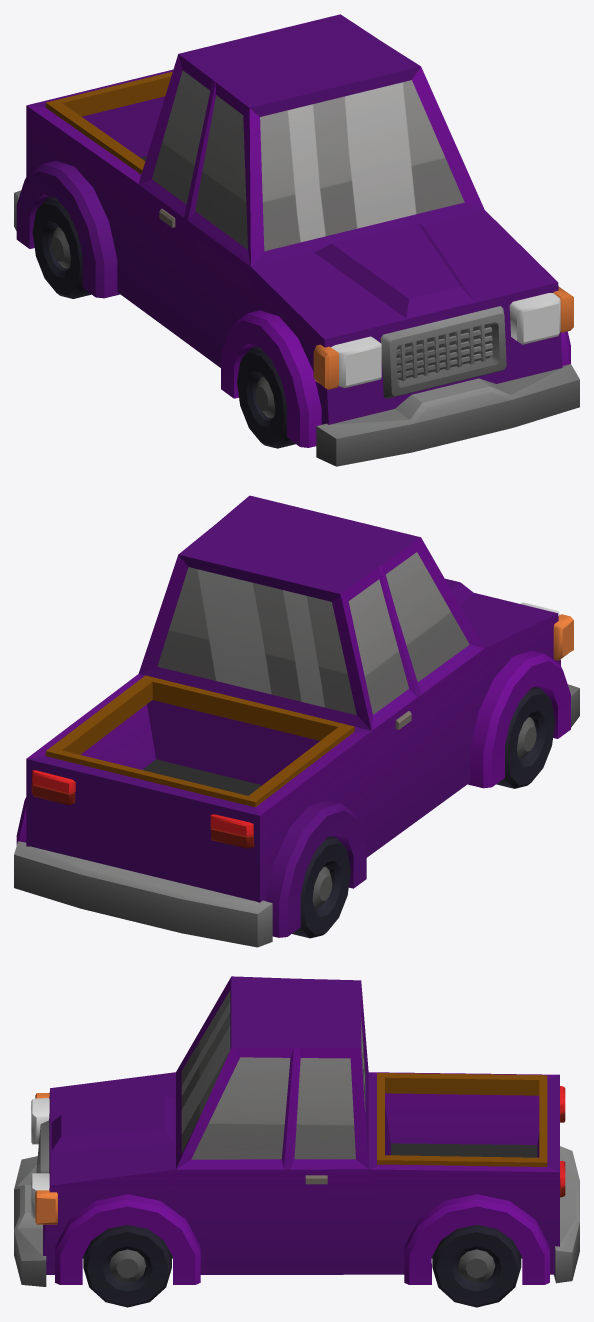
Rendered from PickUp_8.fbx.
The picture shows the model from 3 angles, top to bottom: view 1: azimuth 30°, elevation 25°; view 2: azimuth 150°, elevation 25°; view 3: azimuth 270°, elevation 25°; orthographic projection. The views are drawn at different scales.
Parts seen in each view (by area): view 1: PickUp_8, BWhel_BR, BWhel_FR; view 2: PickUp_8, BWhel_BR, BWhel_FR; view 3: PickUp_8, BWhel_BL, BWhel_FL.
Part boxes in pixels (bbox=[...]): PickUp_8: bbox=[14, 14, 579, 466]; BWhel_BR: bbox=[32, 197, 91, 298]; BWhel_FR: bbox=[237, 346, 295, 448]; PickUp_8: bbox=[14, 495, 579, 947]; BWhel_BR: bbox=[292, 836, 350, 938]; BWhel_FR: bbox=[496, 687, 554, 788]; PickUp_8: bbox=[14, 976, 579, 1286]; BWhel_BL: bbox=[432, 1225, 521, 1307]; BWhel_FL: bbox=[83, 1225, 171, 1307].
Bounding box in the file's own units: 1.09 × 1.08 × 2.3.
